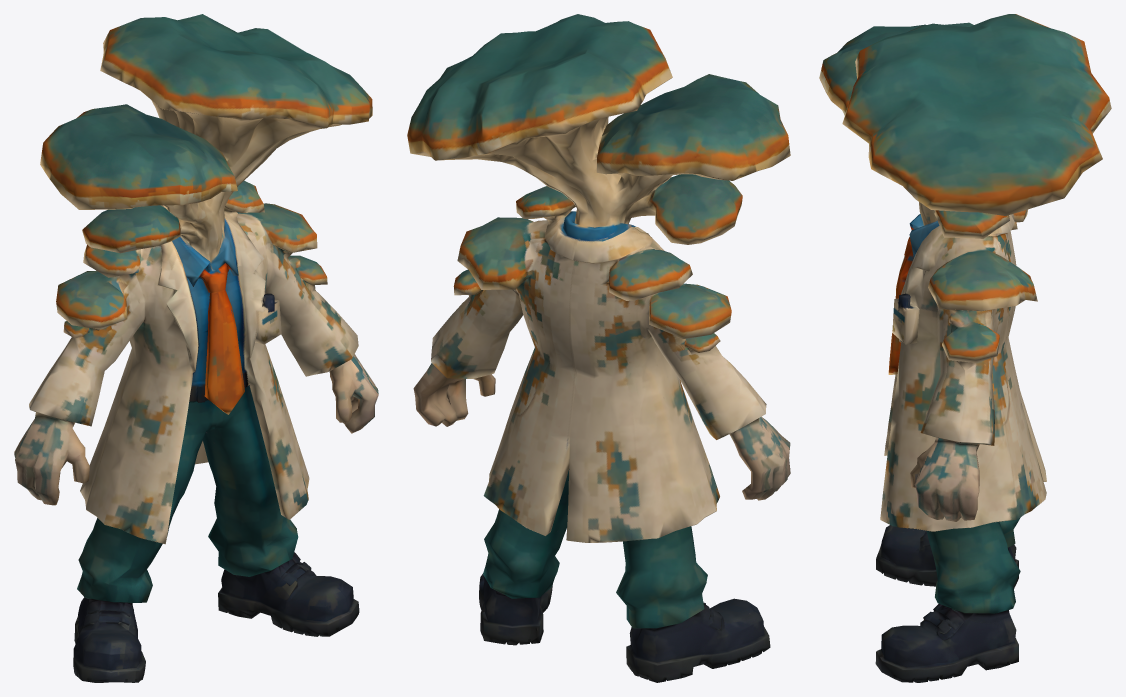
The model's file is scientist.glb.
3 renders of one model, left to right at view 1: azimuth 30°, elevation 25°; view 2: azimuth 150°, elevation 25°; view 3: azimuth 270°, elevation 25°, orthographic.
Parts seen in each view (by area): view 1: tripo_node_1f44f145-3c12-42f0-acd2-a4f358042f82; view 2: tripo_node_1f44f145-3c12-42f0-acd2-a4f358042f82; view 3: tripo_node_1f44f145-3c12-42f0-acd2-a4f358042f82.
Part boxes in pixels (x1,y1,x2,y2): tripo_node_1f44f145-3c12-42f0-acd2-a4f358042f82: [14, 14, 378, 682]; tripo_node_1f44f145-3c12-42f0-acd2-a4f358042f82: [407, 14, 790, 682]; tripo_node_1f44f145-3c12-42f0-acd2-a4f358042f82: [819, 14, 1111, 682].
Bounding box in the file's own units: 0.6154 × 0.9798 × 0.4362.
1 material, 1 textured.
